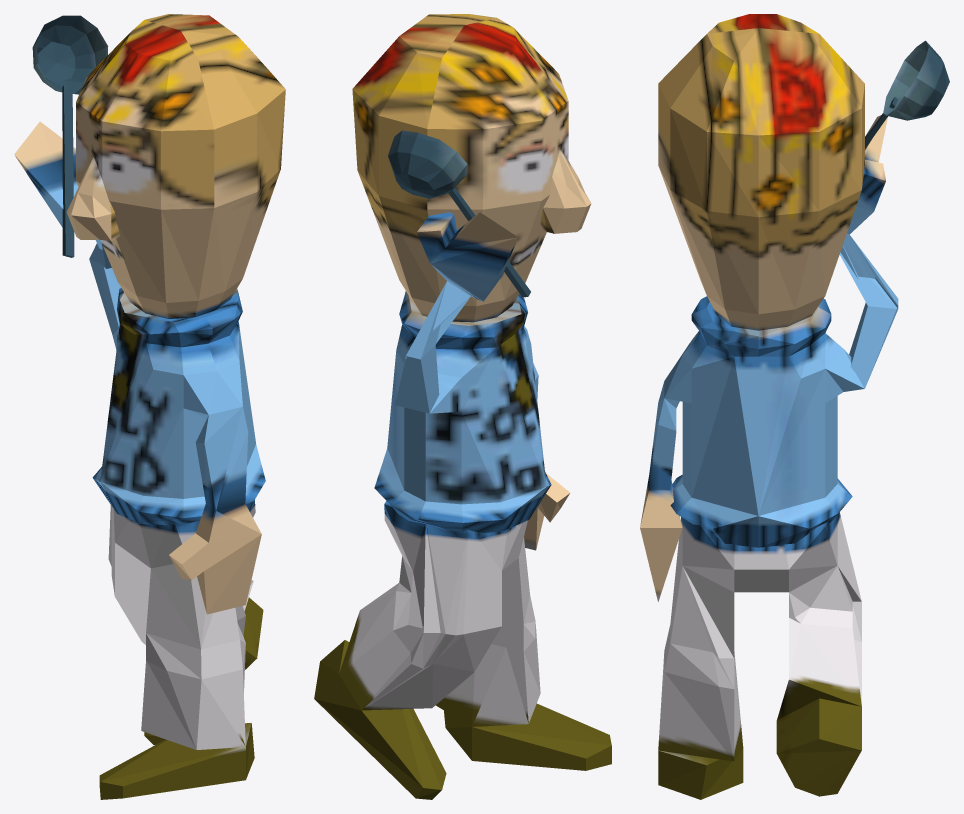
Rendered from pipspet.glb.
3 renders of one model, left to right at view 1: azimuth 30°, elevation 25°; view 2: azimuth 150°, elevation 25°; view 3: azimuth 270°, elevation 25°, orthographic. The views are drawn at different scales.
Parts seen in each view (by area): view 1: pipspet; view 2: pipspet; view 3: pipspet.
Part boxes in pixels (x1=…): pipspet: x1=14, y1=14, x2=285, y2=799; pipspet: x1=314, y1=14, x2=611, y2=799; pipspet: x1=640, y1=14, x2=949, y2=799.
Bounding box in the file's own units: 38.26 × 118 × 43.08.
Materials: 1 (1 with a texture image).
